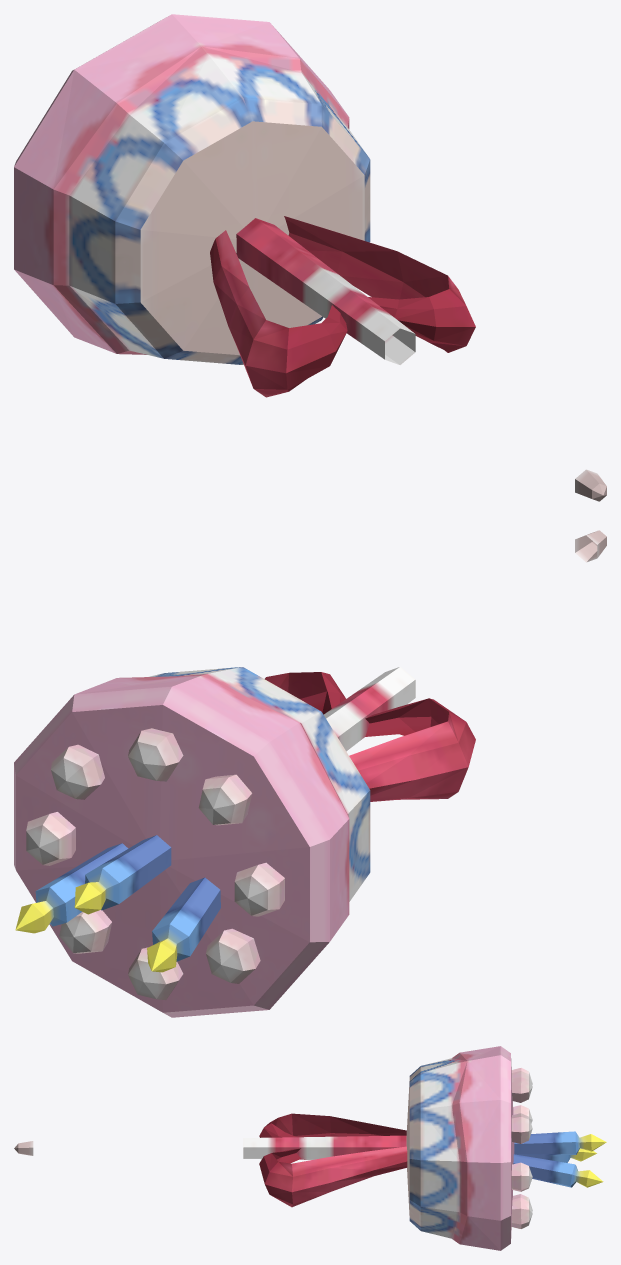
File: Penguin_bdWeapon.obj
The picture shows the model from 3 angles, top to bottom: view 1: azimuth 30°, elevation 25°; view 2: azimuth 150°, elevation 25°; view 3: azimuth 270°, elevation 25°; orthographic projection. The views are drawn at different scales.
Visible parts, largest first — view 1: Penguin_bdWeapon_tri; view 2: Penguin_bdWeapon_tri; view 3: Penguin_bdWeapon_tri.
Part boxes in pixels (bbox=[...]): Penguin_bdWeapon_tri: bbox=[14, 14, 606, 501]; Penguin_bdWeapon_tri: bbox=[14, 530, 606, 1017]; Penguin_bdWeapon_tri: bbox=[14, 1046, 606, 1250].
Bounding box in the file's own units: 0.3521 × 0.3526 × 1.01.
1 material, 1 textured.
